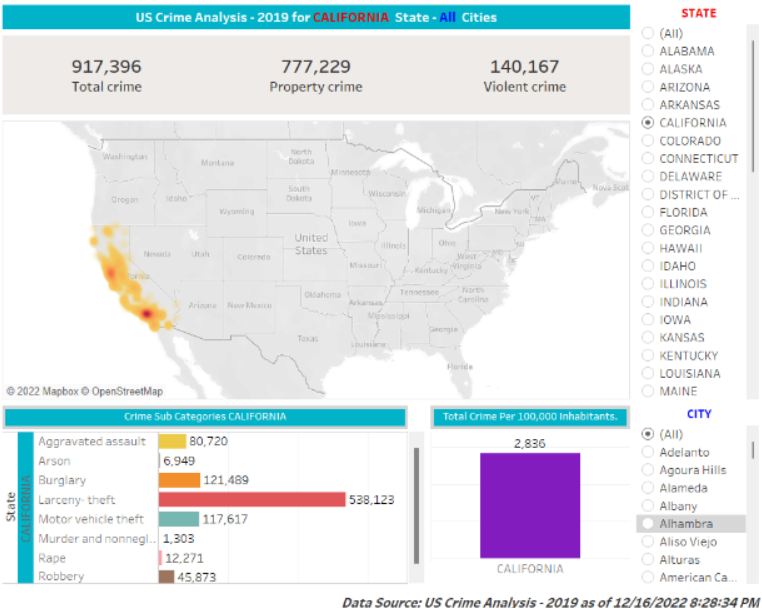

The dashboard page shown, as its layout file describes it:
{"tool":"tableau","page":{"name":"Dashboard","canvas":[1000,800],"ordinal":0},"visuals":[{"type":"worksheet","title":"Dashboard Title","mark":"Automatic","box":[8,8,814,39]},{"type":"filter","title":"Main Categories- State","param":"[federated.111ipa601gzyko19r8ysp18vg9p4].[none:State:nk]","box":[822,8,170,515.1]},{"type":"worksheet","title":"Main Categories- State","mark":"Automatic","box":[8,47,814,109.6]},{"type":"worksheet","title":"State-All Map","mark":"Heatmap","box":[8,156.6,814,366.4]},{"type":"worksheet","title":"Sub Categories- State","mark":"Automatic","rows":["State"],"box":[8,523.1,550,236.9]},{"type":"worksheet","title":"Sum of Total Crime Per 100,000 inhabitants","mark":"Automatic","rows":["Calculation_113997387563728896"],"cols":["State"],"box":[558,523.1,264,236.9]},{"type":"filter","title":"Sub Categories- State","param":"[federated.111ipa601gzyko19r8ysp18vg9p4].[none:City:nk]","box":[822,523.1,170,236.9]},{"type":"worksheet","title":"Data Source","mark":"Automatic","box":[8,760,984,32]}]}

Visuals, with their boxes in screenshot pixels (x1, y1, x2, y2), scaled from the page's 1000x800 canvas onto the 762x608 screenshot:
"Dashboard Title" worksheet: (6, 6, 626, 36)
"Main Categories- State" filter: (626, 6, 756, 398)
"Main Categories- State" worksheet: (6, 36, 626, 119)
"State-All Map" worksheet (Heatmap marks): (6, 119, 626, 397)
"Sub Categories- State" worksheet: (6, 398, 425, 578)
"Sum of Total Crime Per 100,000 inhabitants" worksheet: (425, 398, 626, 578)
"Sub Categories- State" filter: (626, 398, 756, 578)
"Data Source" worksheet: (6, 578, 756, 602)
